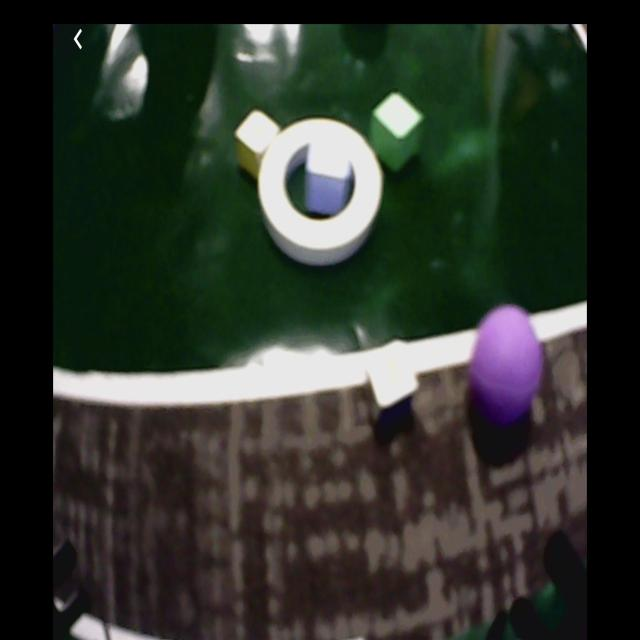ball: (472, 306, 545, 418)
